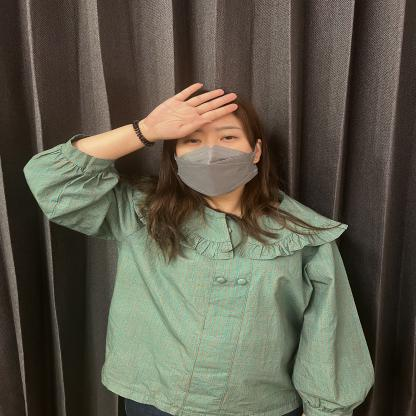Sick: (34, 64, 301, 166)
